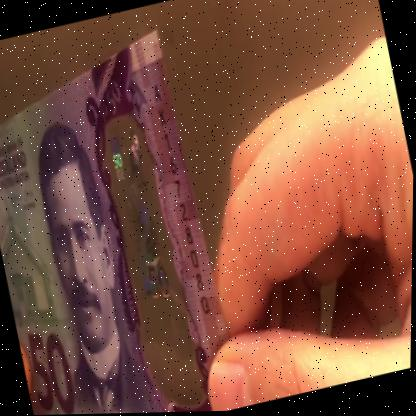50F: (95, 110, 202, 397)
